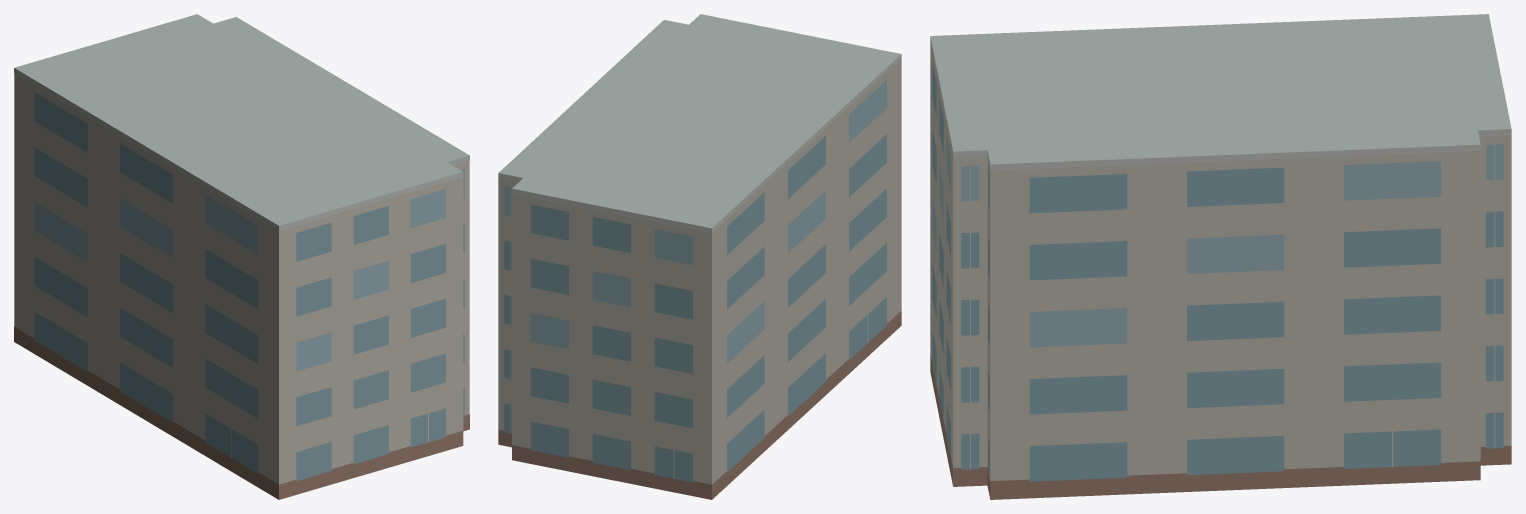
File: survey-upis-32654824.glb
The picture shows the model from 3 angles, left to right: view 1: azimuth 30°, elevation 25°; view 2: azimuth 150°, elevation 25°; view 3: azimuth 270°, elevation 25°; orthographic projection. The views are drawn at different scales.
Parts seen in each view (by area): view 1: survey-upis-32654824.tmp; view 2: survey-upis-32654824.tmp; view 3: survey-upis-32654824.tmp.
Boxes of the visible parts, x1,y1,x2,y2 form: survey-upis-32654824.tmp: (14, 14, 469, 499); survey-upis-32654824.tmp: (498, 14, 901, 499); survey-upis-32654824.tmp: (930, 14, 1511, 499).
Size of the model in its own units: 13.1 by 13.6 by 21.37.
